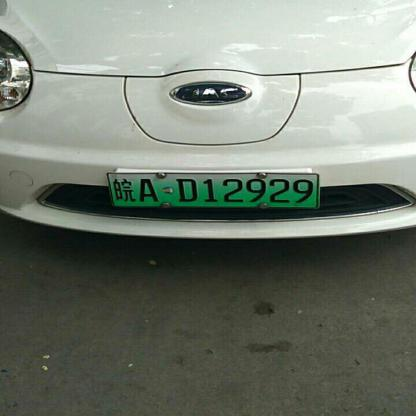lp: (108, 173, 317, 206)
